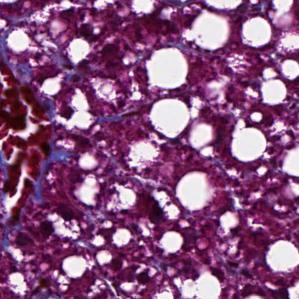steatosis: (143, 46, 193, 90), (145, 97, 194, 139), (231, 122, 270, 165)
